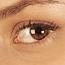eye: (30, 27, 48, 40)
